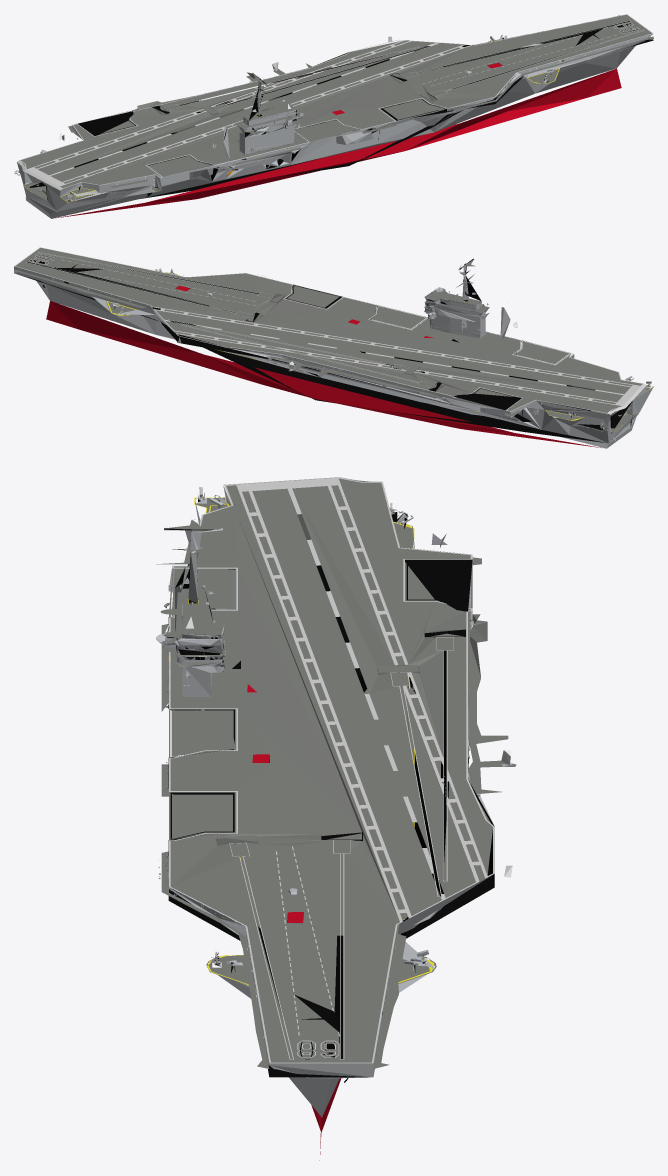
3 views of the same model, one above another, from view 1: azimuth 30°, elevation 25°; view 2: azimuth 150°, elevation 25°; view 3: azimuth 270°, elevation 25° (orthographic). The views are drawn at different scales.
Parts seen in each view (by area): view 1: Material2 (×4), Material3; view 2: Material2 (×4), Material3; view 3: Material2 (×4).
Part boxes in pixels (box(x1,y1,x2,y2)): Material2 (×4): box(14, 14, 653, 218); Material3: box(53, 63, 621, 218); Material2 (×4): box(14, 247, 653, 448); Material3: box(46, 285, 601, 447); Material2 (×4): box(156, 477, 516, 1116).
Bounding box in the file's own units: 13194 × 2742 × 3462.
